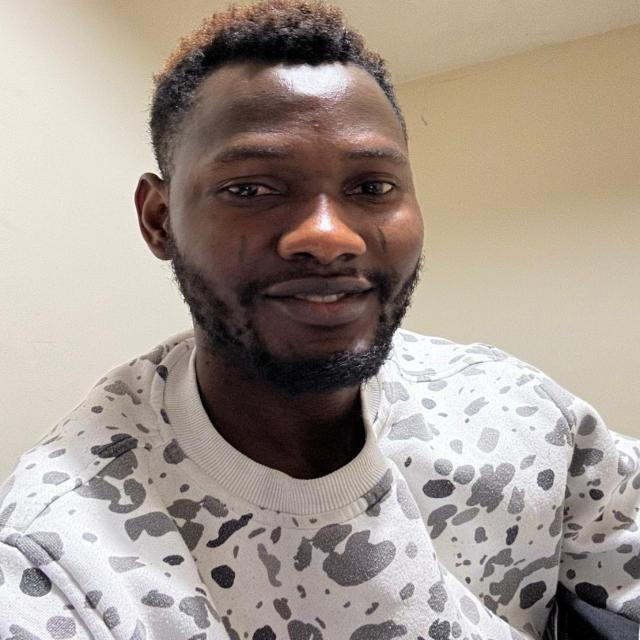happy: (134, 16, 428, 395)
